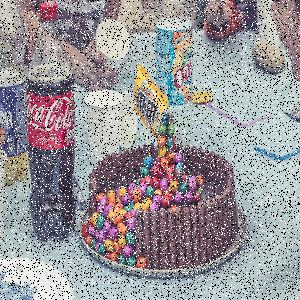Cup: (84, 90, 124, 167), (97, 20, 131, 84), (124, 93, 140, 149), (2, 149, 8, 233)
Plastic-bottle: (27, 2, 77, 243), (153, 2, 197, 147), (2, 2, 30, 190)
